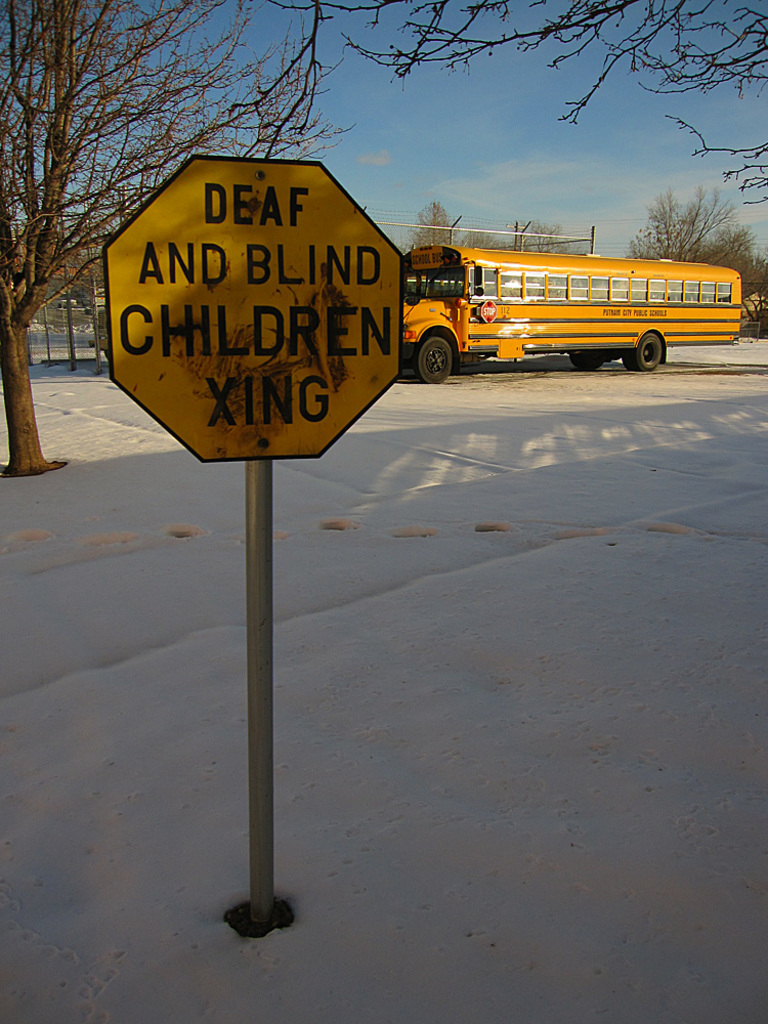Bus: (397, 239, 735, 369), (397, 277, 464, 369)
